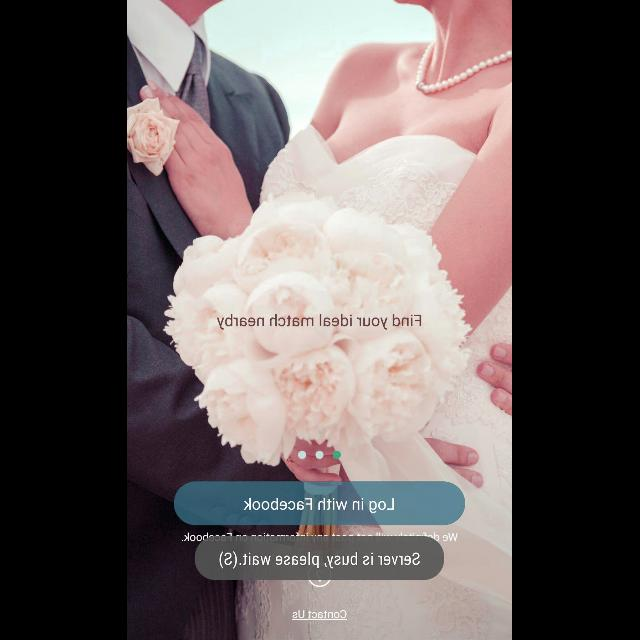backgroundimage: (128, 1, 512, 640)
pageindicator: (298, 450, 342, 460)
text: (218, 314, 422, 330), (292, 610, 348, 620)
textbutton: (174, 481, 466, 525)
